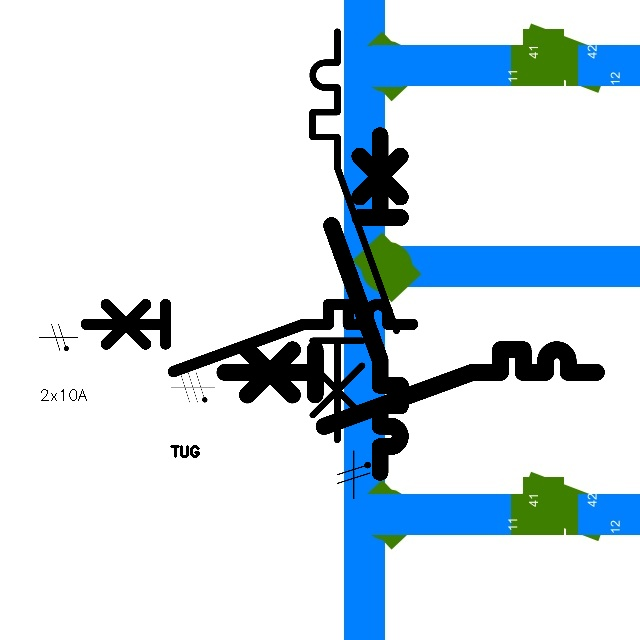interruptor_termomagnetico: (302, 21, 407, 450), (215, 340, 606, 435), (323, 127, 409, 481), (77, 296, 420, 380)
